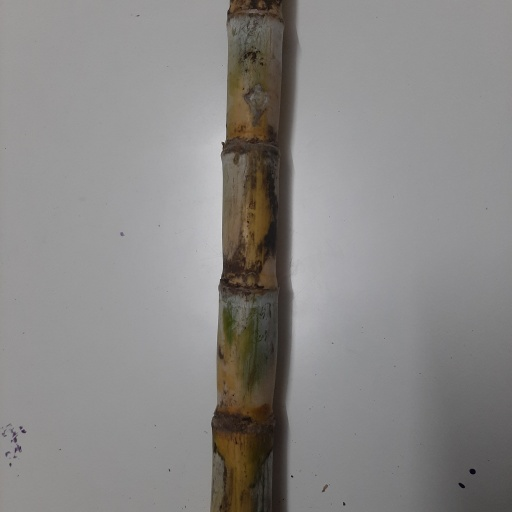Bud: (244, 271, 259, 289)
